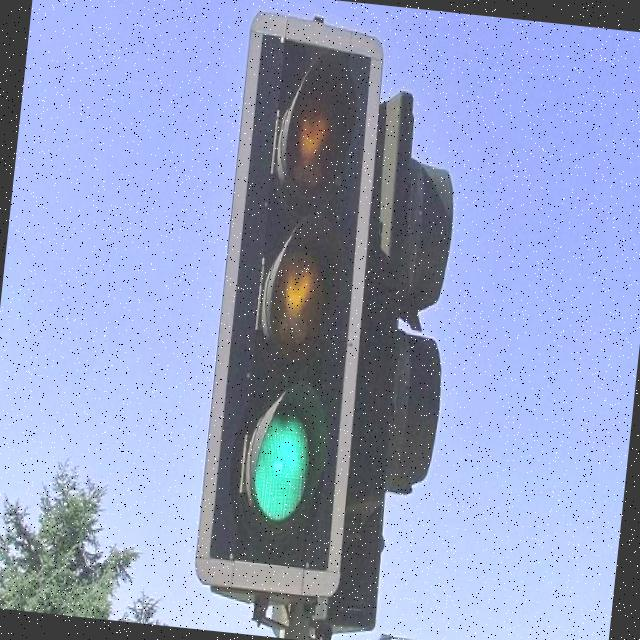Zielone swiatlo: (209, 34, 385, 546)
